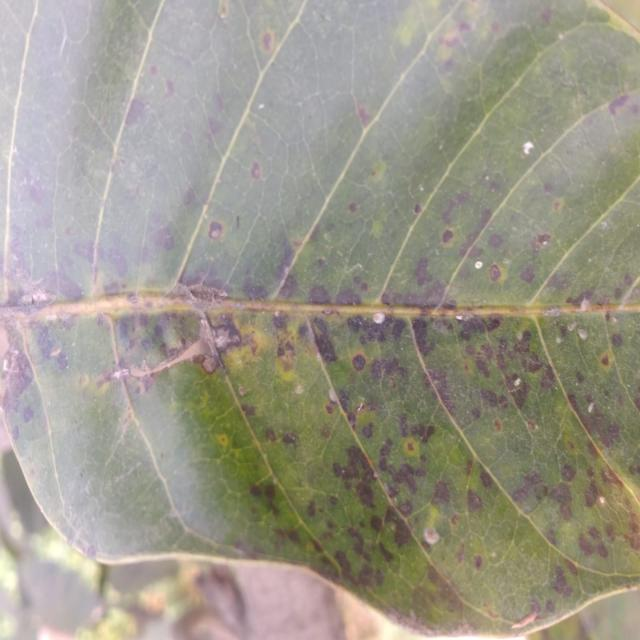Anthracnose: (342, 448, 414, 552), (459, 307, 527, 375), (437, 226, 456, 248)
Powdery Mildew: (199, 309, 235, 353), (21, 287, 54, 306), (522, 135, 537, 158), (424, 531, 440, 549), (371, 314, 388, 328)
